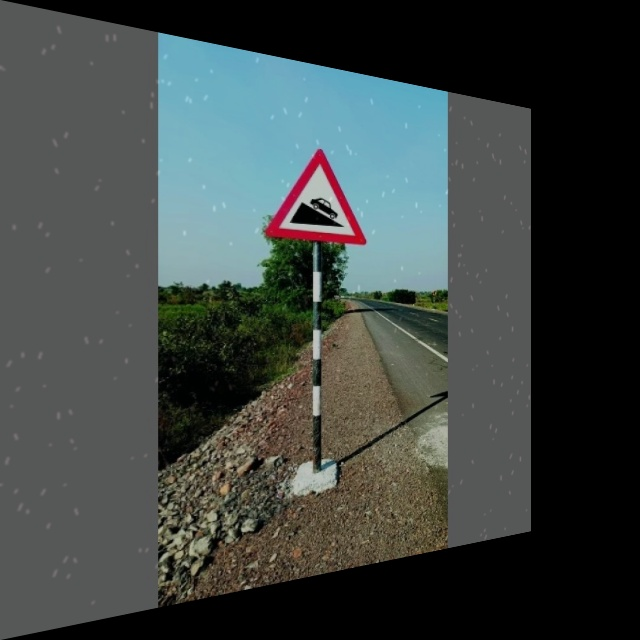Steep_Descent: (267, 141, 362, 243)
